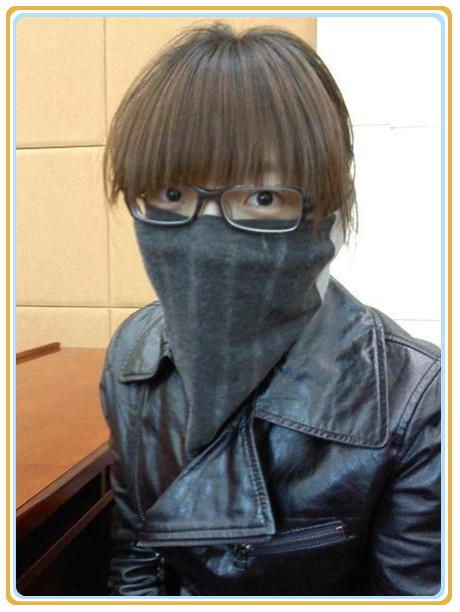OK: (137, 161, 316, 340)
